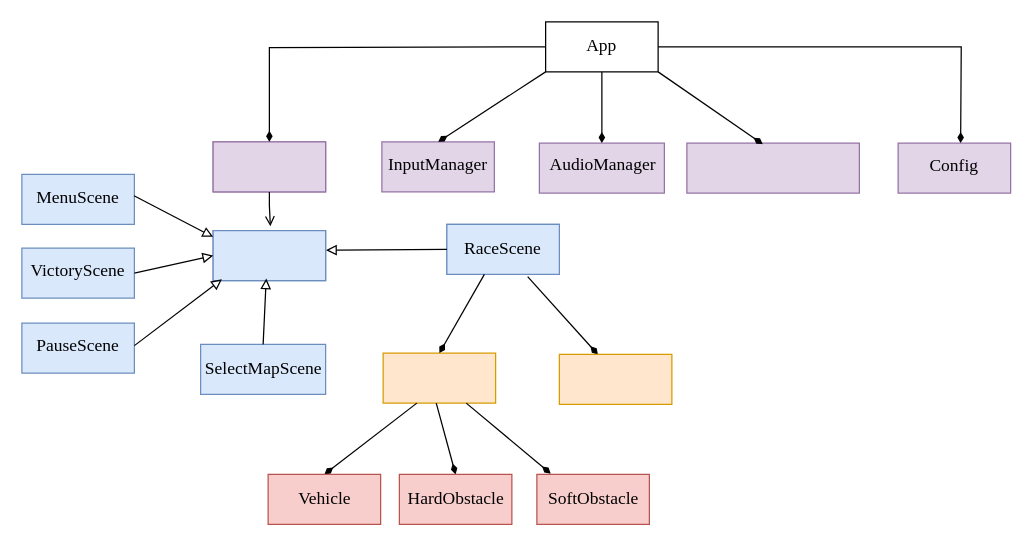
This 1033x546 diagram has some shape labels left out. Each missing label, with the box of its shape:
<<Abstract>> Scene: (212, 229, 326, 281)
CheckpointManager: (686, 142, 859, 193)
GameWorld (Box2D): (382, 352, 496, 403)
SceneManager: (212, 141, 326, 192)
Track (TMXLite): (558, 353, 672, 404)
